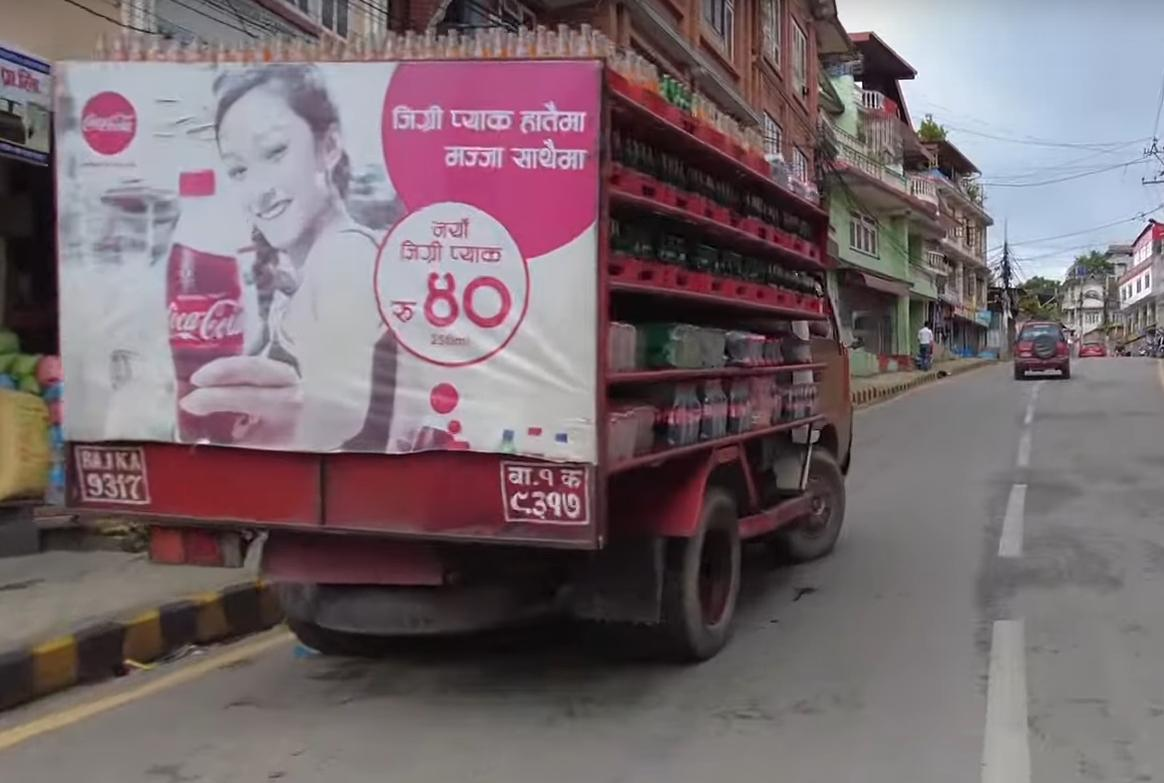car: (994, 310, 1079, 381)
mini_truck: (29, 40, 863, 663)
